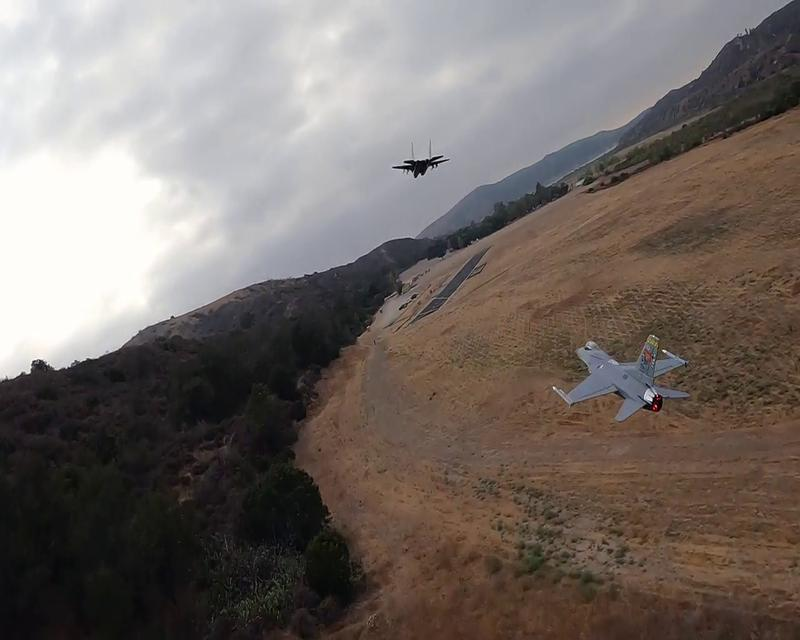UAV: (551, 332, 690, 423), (390, 138, 450, 179)
